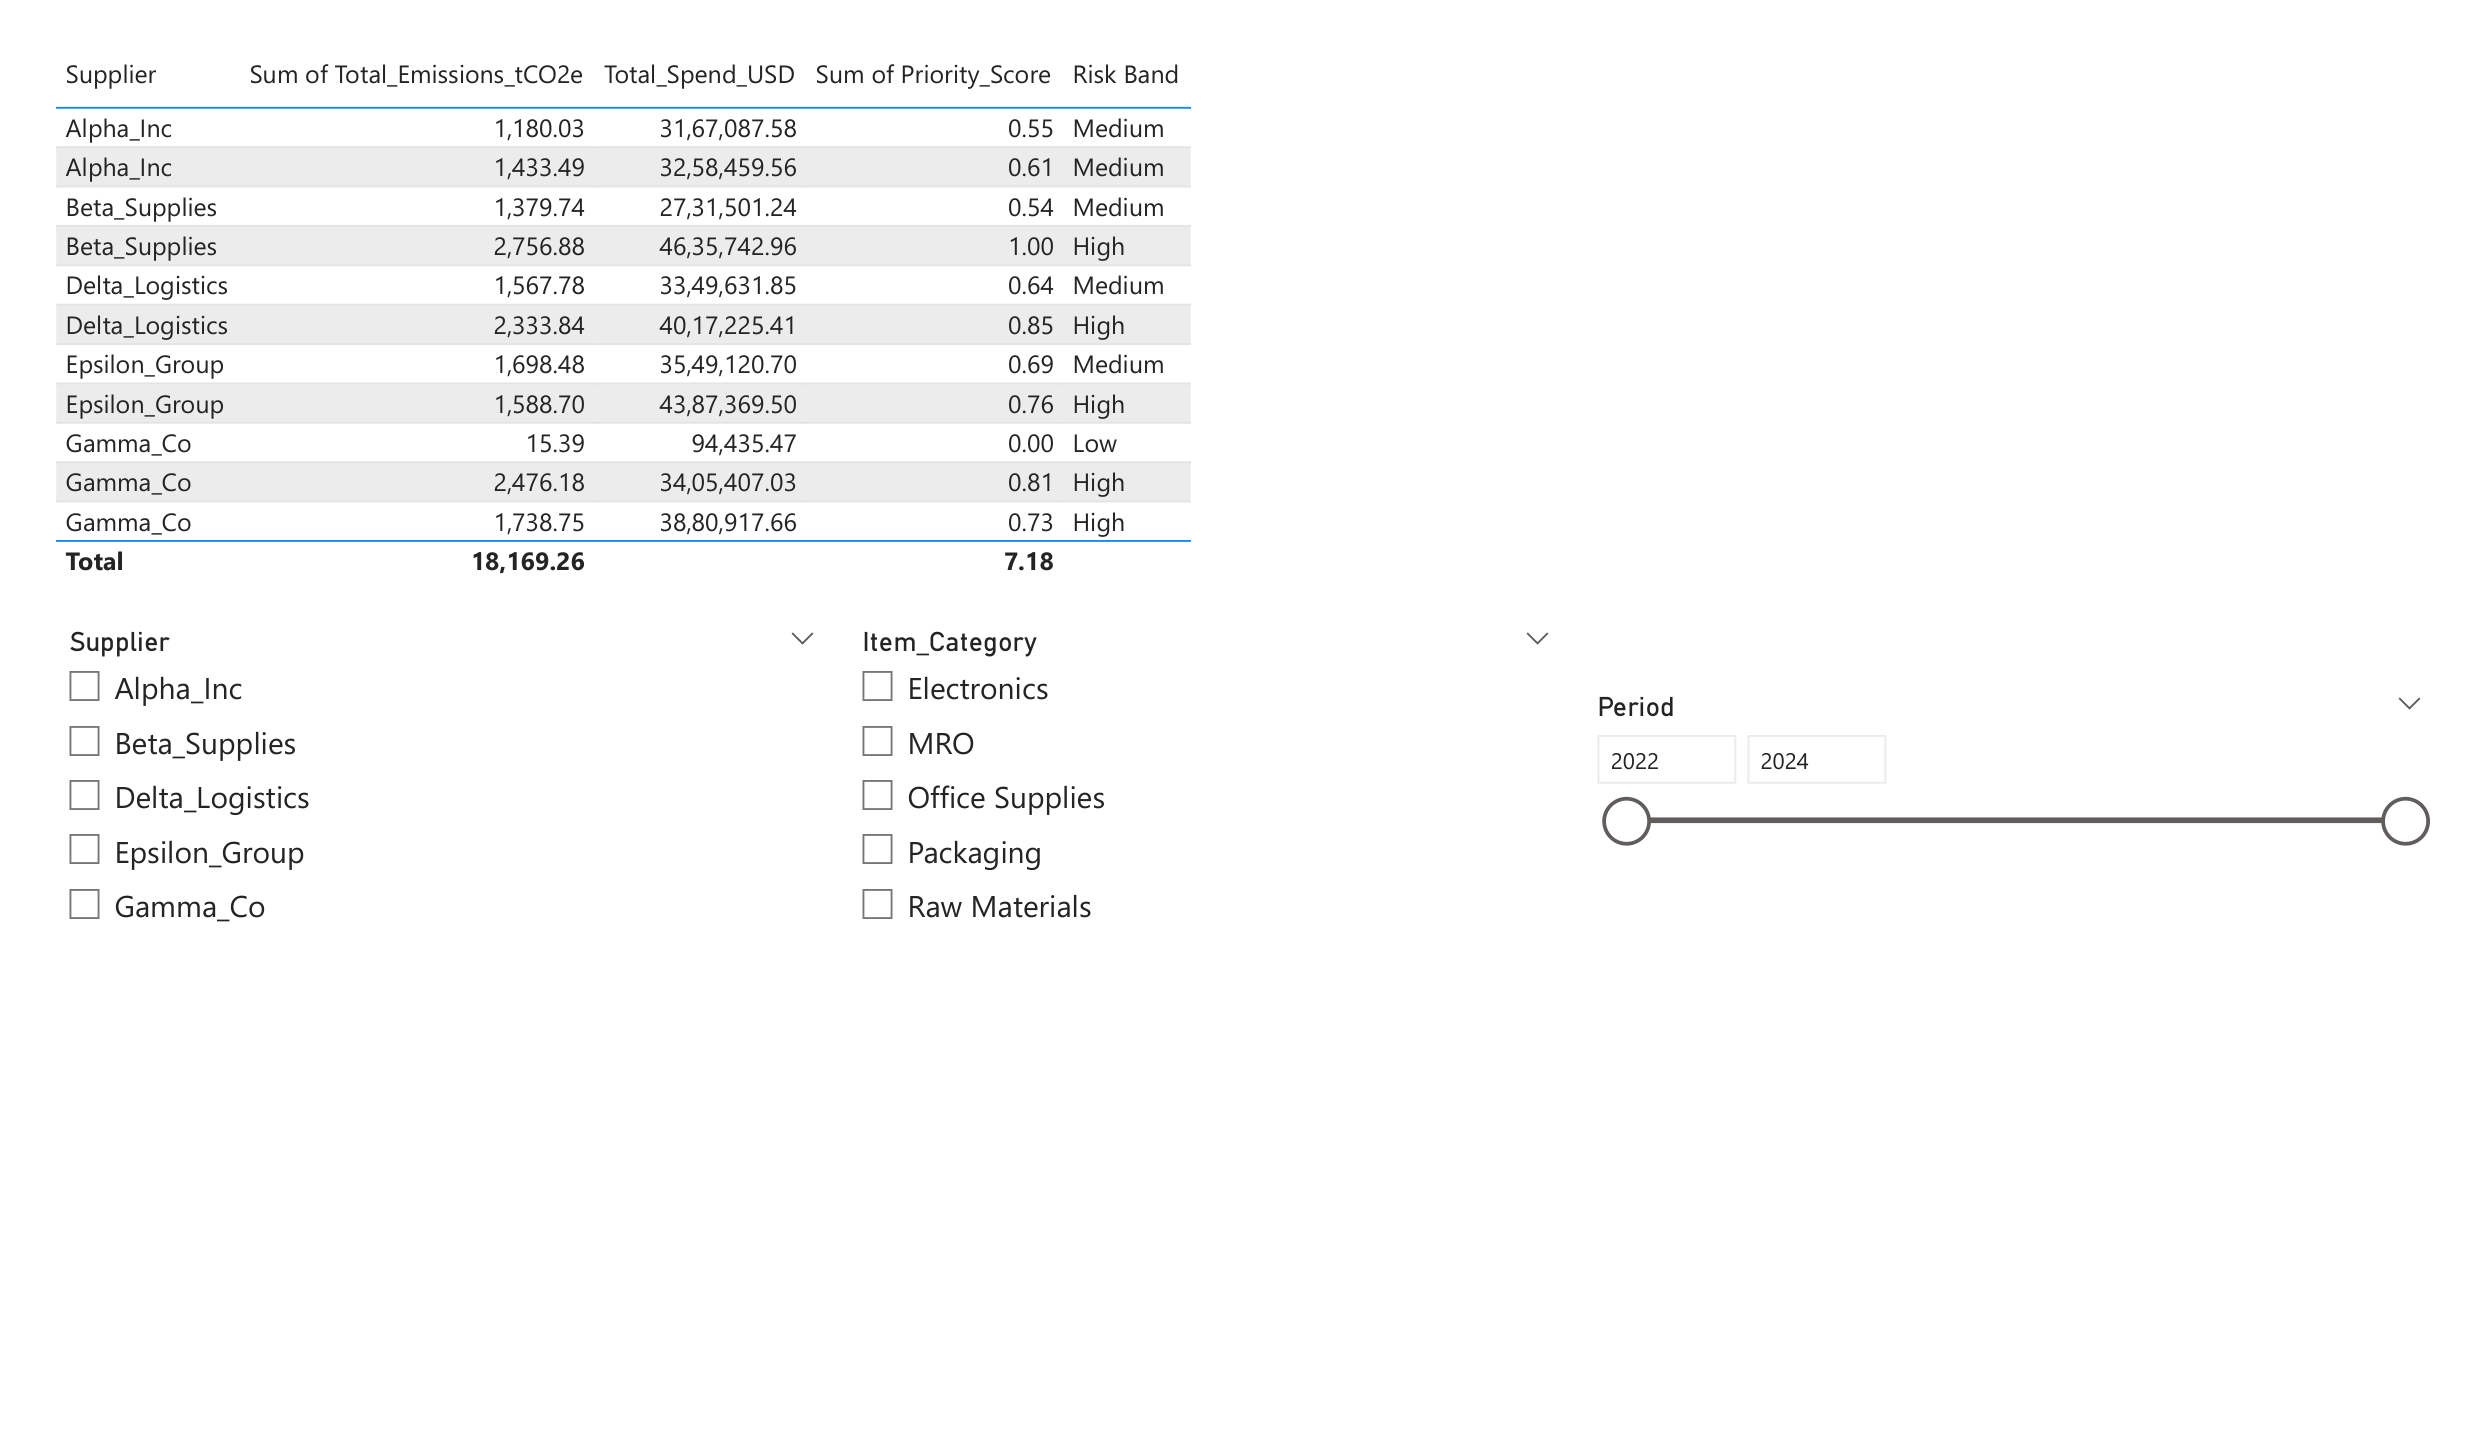

The dashboard page shown, as its layout file describes it:
{"tool":"powerbi","page":{"name":"Page 3","canvas":[1280,720],"ordinal":2},"visuals":[{"type":"tableEx","fields":{"Values":["top20_suppliers_per_period.Supplier","Sum(top20_suppliers_per_period.Total_Emissions_tCO2e)","top20_suppliers_per_period.Total_Spend_USD","Sum(top20_suppliers_per_period.Priority_Score)","supplier_summary_with_priority.Risk Band"]},"box":[0,0,1280,328.3],"z":0},{"type":"slicer","fields":{"Values":["line_level_emissions_with_imputation.Supplier"]},"box":[0,305,423.3,415],"z":1000},{"type":"slicer","fields":{"Values":["line_level_emissions_with_imputation.Period"]},"box":[815,340,465,380],"z":2000},{"type":"slicer","fields":{"Values":["line_level_emissions_with_imputation.Item_Category"]},"box":[423.3,305,391.7,415],"z":3000}]}

Visuals, with their boxes in screenshot pixels (x1, y1, x2, y2), scaled from the page's 1280x720 canvas onto the 2490x1440 screenshot:
tableEx - top20_suppliers_per_period.Supplier x Sum(top20_suppliers_per_period.Total_Emissions_tCO2e): box=[0, 0, 2489, 657]
slicer - line_level_emissions_with_imputation.Supplier: box=[0, 610, 823, 1439]
slicer - line_level_emissions_with_imputation.Period: box=[1585, 680, 2489, 1439]
slicer - line_level_emissions_with_imputation.Item_Category: box=[823, 610, 1585, 1439]
